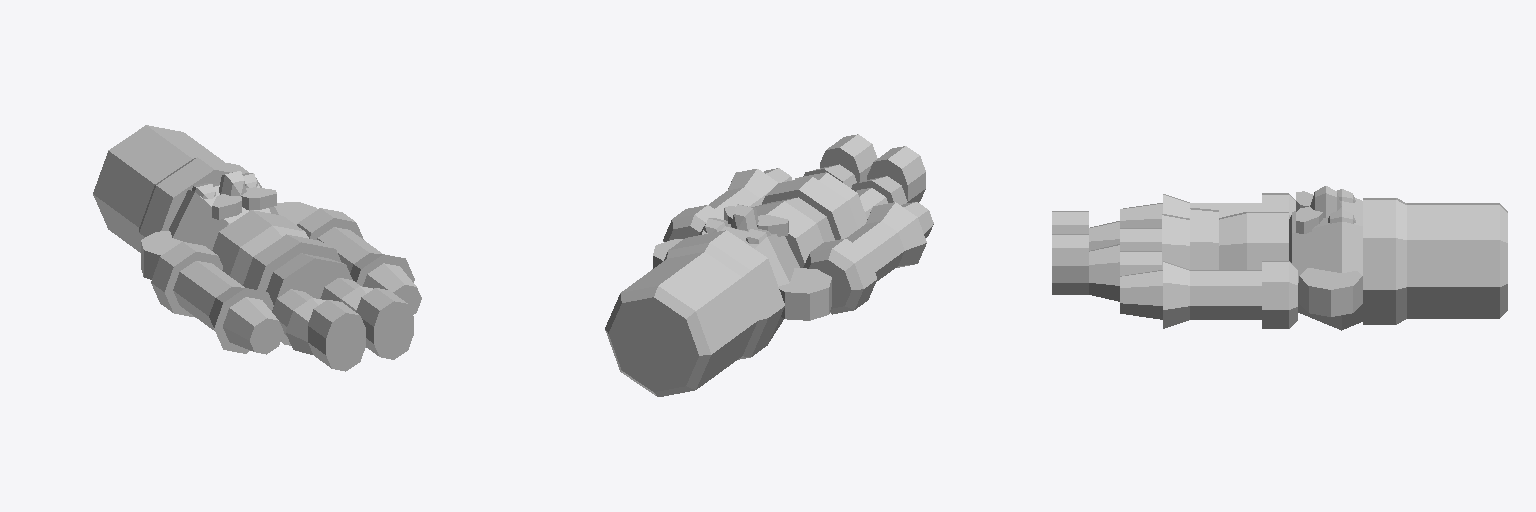
Rendered from nutcracker.obj.
The picture shows the model from 3 angles: view 1: azimuth 30°, elevation 25°; view 2: azimuth 150°, elevation 25°; view 3: azimuth 270°, elevation 25°; orthographic projection.
Parts seen in each view (by area): view 1: nutcracker; view 2: nutcracker; view 3: nutcracker.
Boxes of the visible parts, <box> form: nutcracker: <box>93,125,421,371</box>; nutcracker: <box>605,134,933,396</box>; nutcracker: <box>1052,186,1507,330</box>.
Bounding box in the file's own units: 0.5484 × 0.3475 × 1.08.